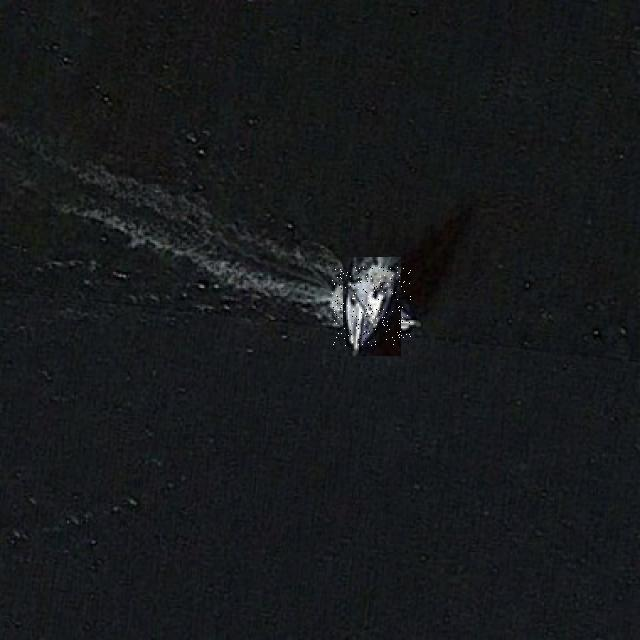boat: (332, 267, 411, 346)
